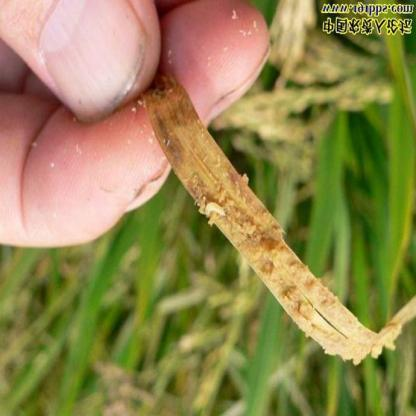whorl-maggot: (201, 199, 230, 226)
